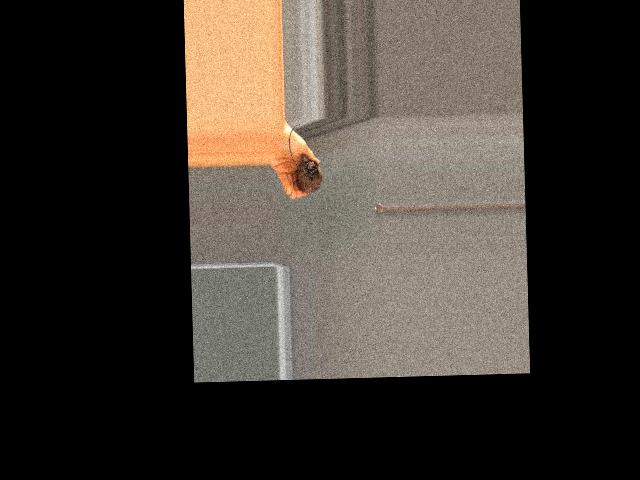beet: (287, 124, 322, 202)
